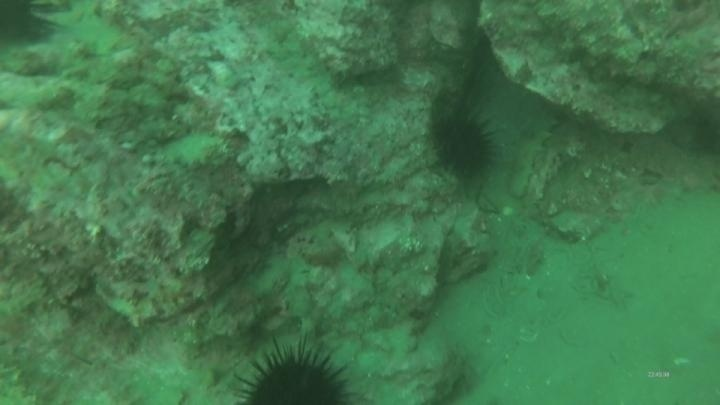echinus: (230, 337, 357, 404), (427, 106, 501, 182), (0, 1, 59, 51)
holothurian: (503, 109, 560, 202)
